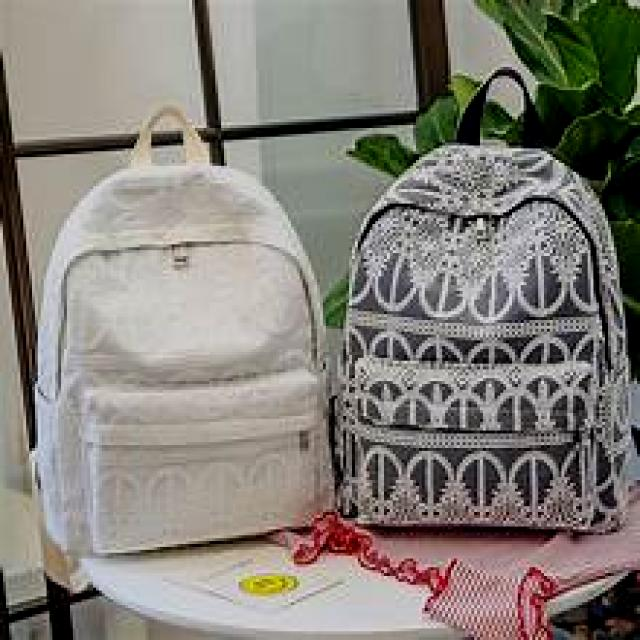backpack: (24, 101, 348, 567), (327, 65, 635, 533)
